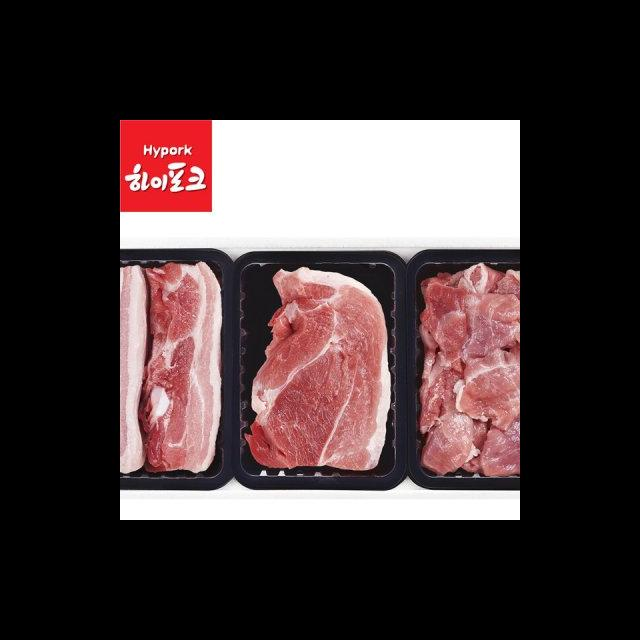beef: (245, 267, 391, 471), (422, 262, 520, 477), (122, 262, 221, 473)
